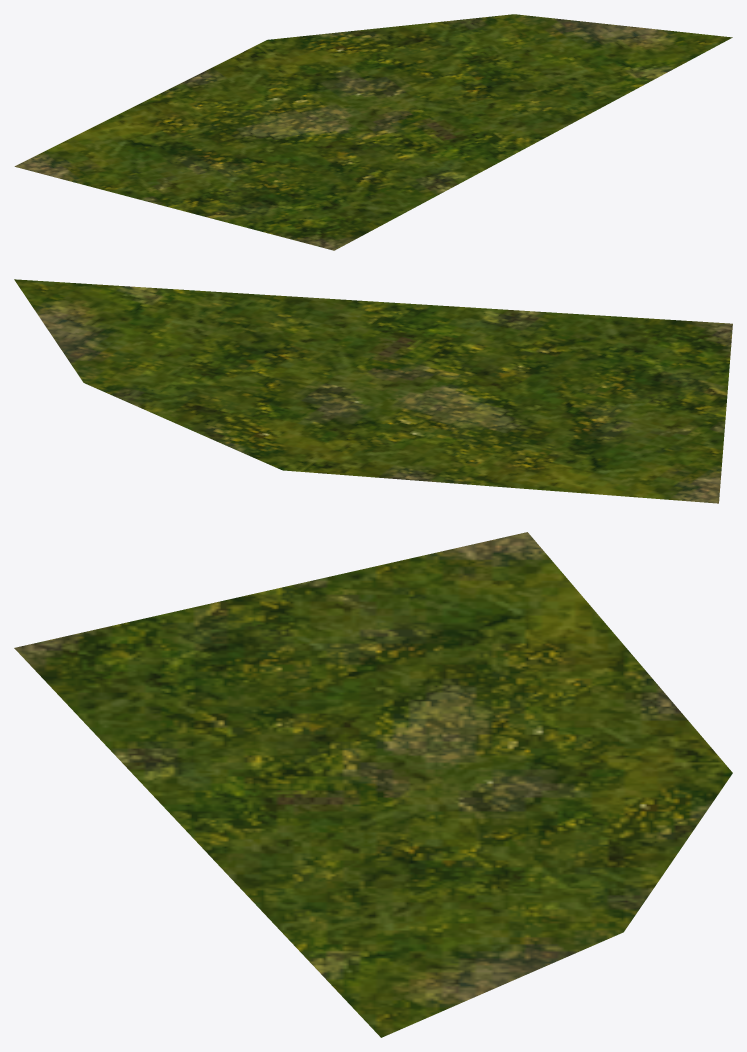
Rendered from OVERHILL_A_01_LINE38.fbx.
The picture shows the model from 3 angles, top to bottom: view 1: azimuth 30°, elevation 25°; view 2: azimuth 150°, elevation 25°; view 3: azimuth 270°, elevation 25°; orthographic projection. The views are drawn at different scales.
Parts seen in each view (by area): view 1: OVERHILL_A_01_LINE38; view 2: OVERHILL_A_01_LINE38; view 3: OVERHILL_A_01_LINE38.
Boxes of the visible parts, left/top/right/bottom form: OVERHILL_A_01_LINE38: left=14, top=14, right=732, bottom=250; OVERHILL_A_01_LINE38: left=14, top=279, right=732, bottom=503; OVERHILL_A_01_LINE38: left=14, top=532, right=732, bottom=1037.
Size of the model in its own units: 22615 by 0.00221 by 13582.
1 material, 1 textured.
